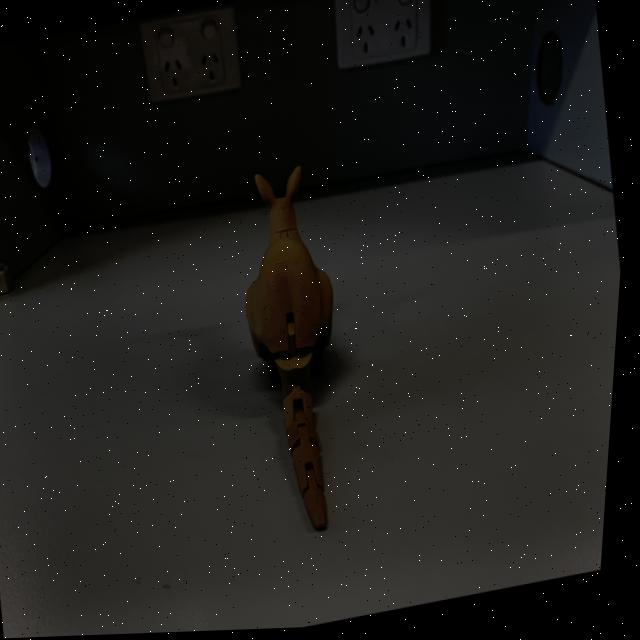kangaroo: (206, 156, 386, 544)
